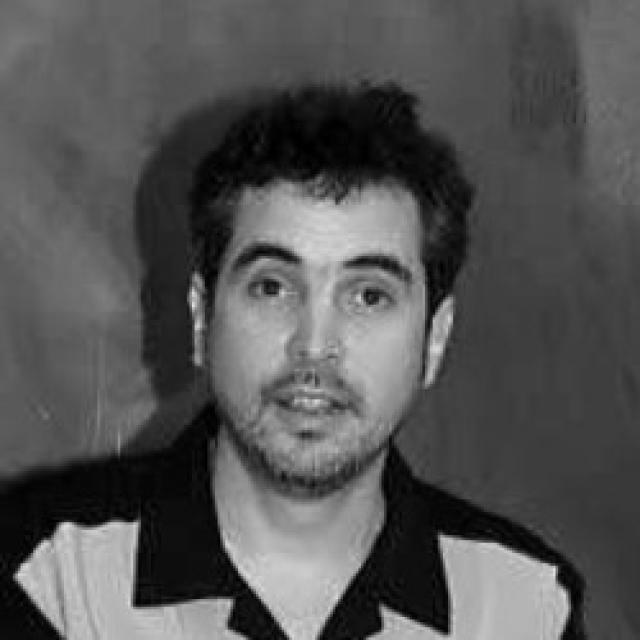real: (192, 93, 448, 482), (229, 261, 412, 325)
